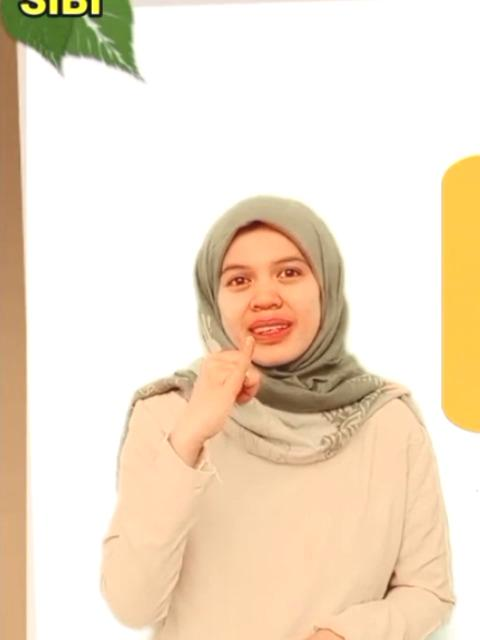J: (175, 334, 270, 436)
